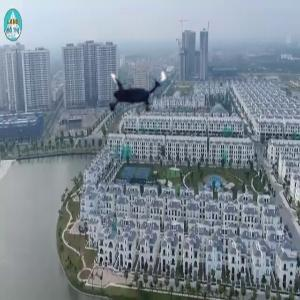drone: (90, 50, 176, 136)
